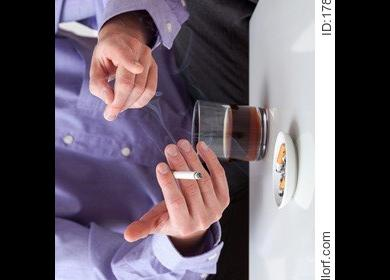Cigarette: (168, 169, 202, 180)
